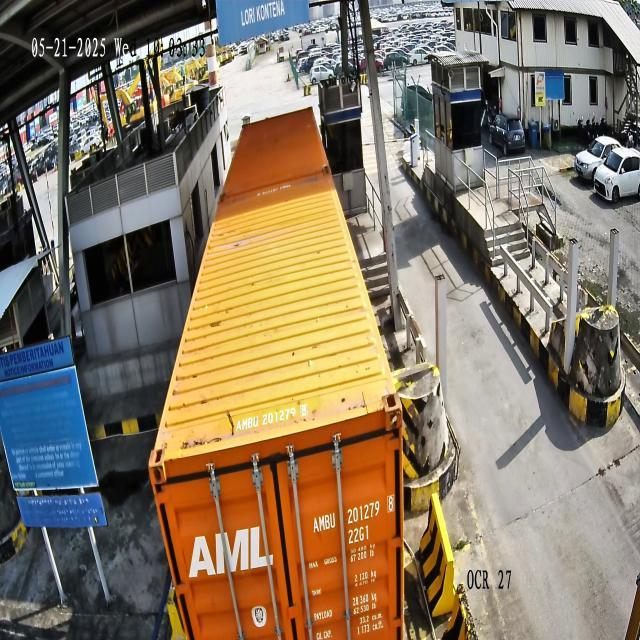ISO: (348, 524, 369, 546)
container_number: (312, 492, 396, 536)
